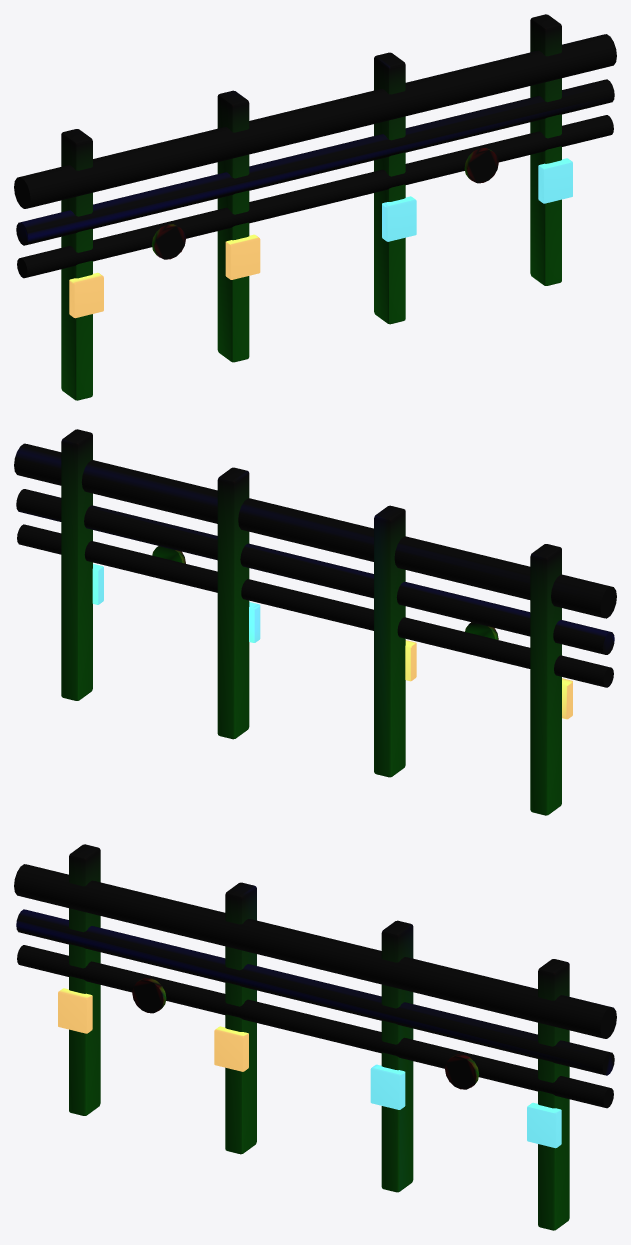
The model's file is hero_wall_pipe_run.glb.
3 views of the same model, one above another, from view 1: azimuth 30°, elevation 25°; view 2: azimuth 150°, elevation 25°; view 3: azimuth 330°, elevation 25° (orthographic).
Parts seen in each view (by area): view 1: HeroWallPipeRun; view 2: HeroWallPipeRun; view 3: HeroWallPipeRun.
Part boxes in pixels (box(x1,y1,x2,y2)): HeroWallPipeRun: box(14, 14, 616, 400); HeroWallPipeRun: box(14, 429, 616, 815); HeroWallPipeRun: box(14, 844, 616, 1230).
Bounding box in the file's own units: 9 × 3.8 × 0.61.
